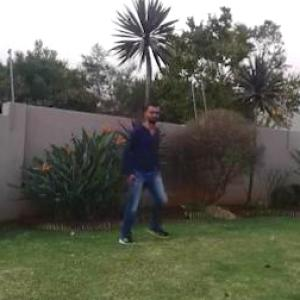follow: (123, 98, 163, 238)
